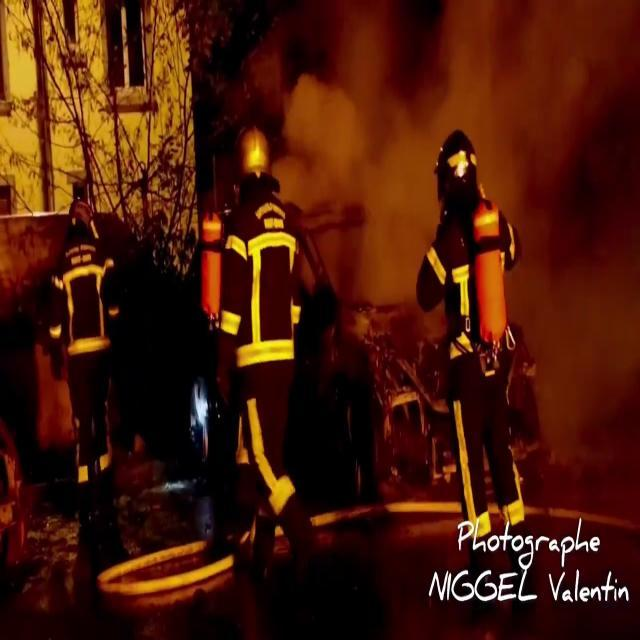Smoke: (260, 0, 640, 320)
